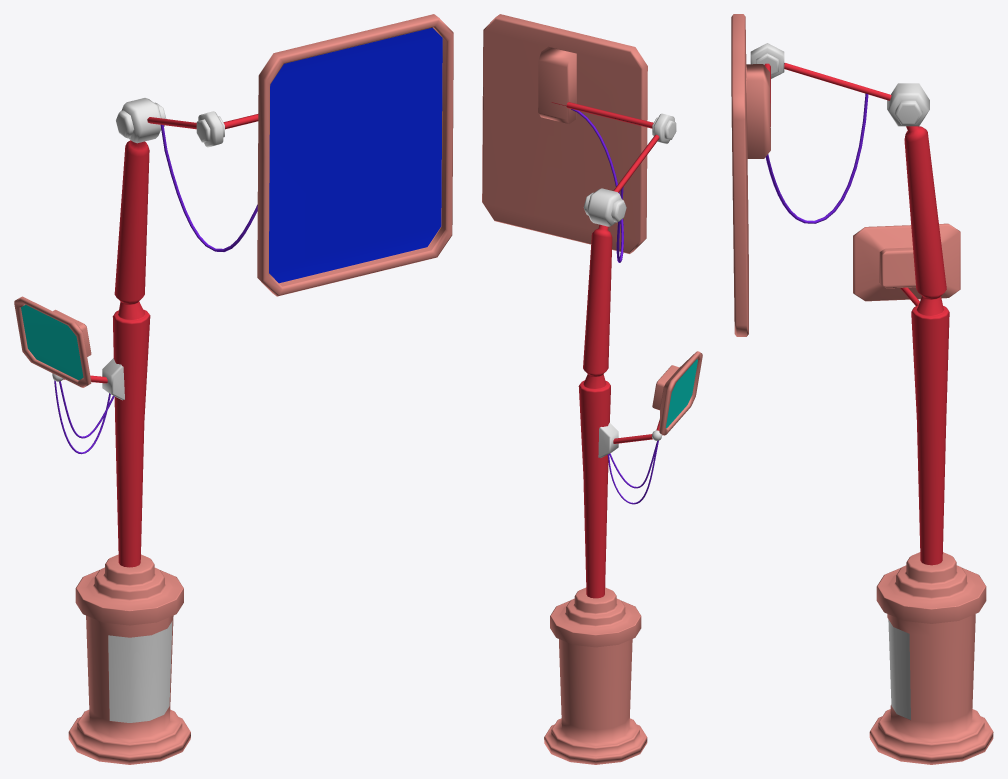
File: SP_Signboard01.fbx
3 views of the same model, side by side, from view 1: azimuth 30°, elevation 25°; view 2: azimuth 150°, elevation 25°; view 3: azimuth 270°, elevation 25° (orthographic). The views are drawn at different scales.
Parts seen in each view (by area): view 1: SP_Signboard01; view 2: SP_Signboard01; view 3: SP_Signboard01.
Part boxes in pixels (box(x1,y1,x2,y2)): SP_Signboard01: box(14, 14, 453, 764); SP_Signboard01: box(482, 14, 702, 764); SP_Signboard01: box(731, 14, 993, 764).
Bounding box in the file's own units: 1.7 × 3.68 × 1.16.
